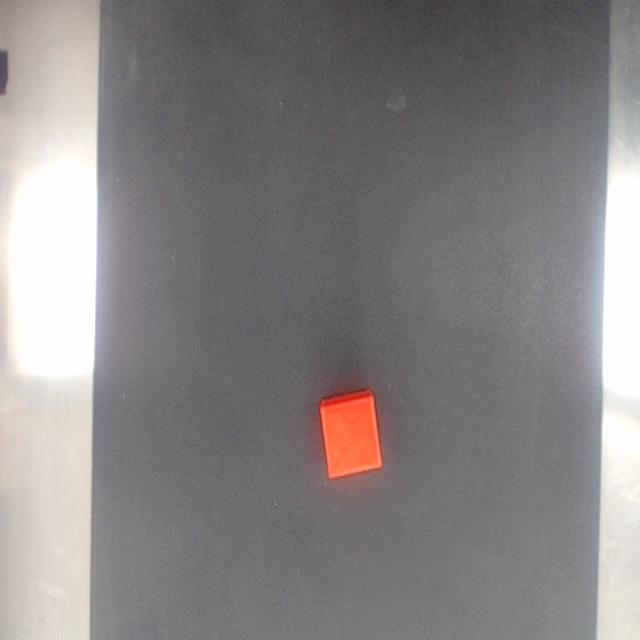Rojo: (319, 389, 382, 479)
